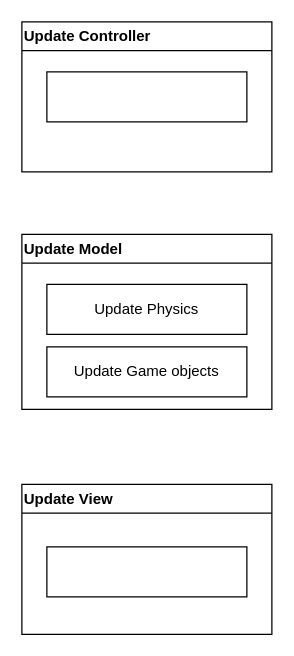
The diagram is 294 pixels wide and 656 high, and some of its shapes have lost their labels. Each missing label, with the centre of its shape:
"Render" belongs at (146,571).
"Update Input" belongs at (146,96).
